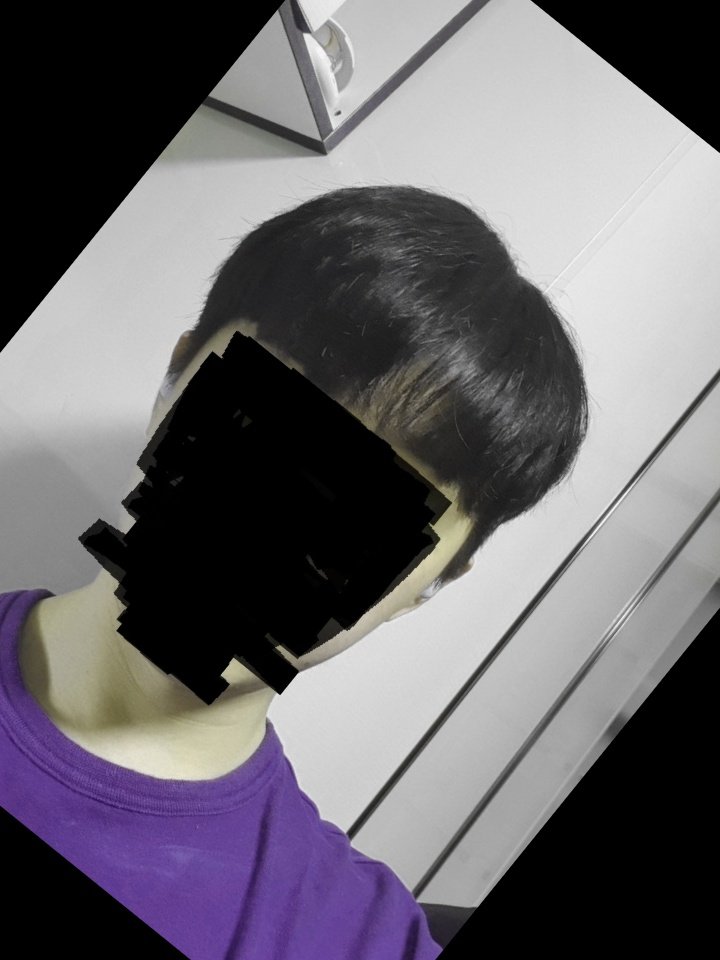earphone: (118, 321, 221, 435), (384, 542, 475, 643)
